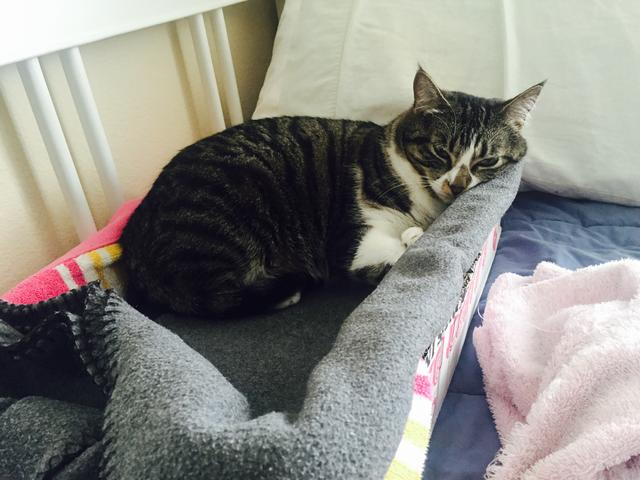playdoh: (116, 59, 548, 321)
